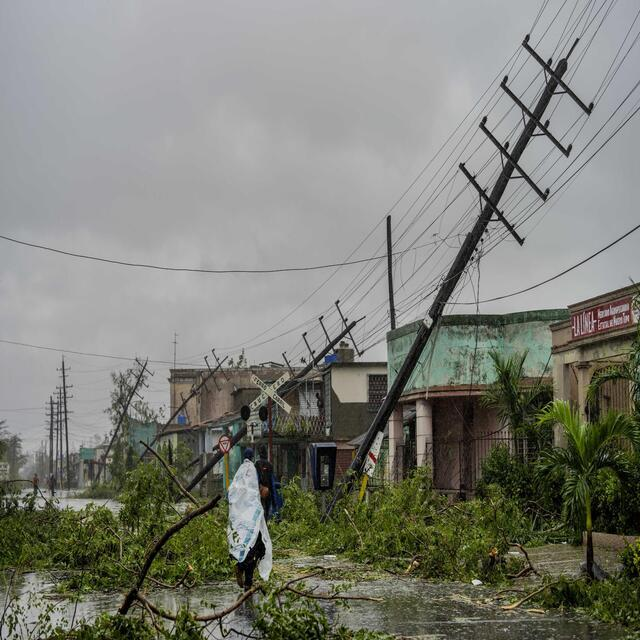Inclined Pole: (329, 29, 602, 506), (180, 298, 368, 493)
